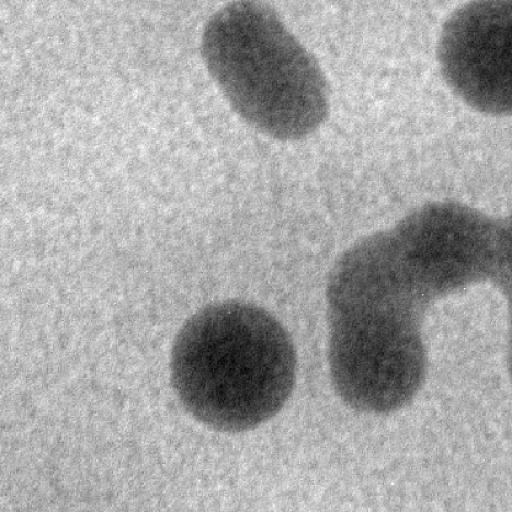Nanoparticles: (170, 300, 297, 430), (324, 312, 436, 418), (205, 37, 316, 128), (325, 245, 433, 328), (423, 201, 492, 294), (395, 214, 464, 298), (198, 0, 278, 72), (266, 56, 330, 143), (344, 234, 426, 298), (484, 216, 511, 304)
